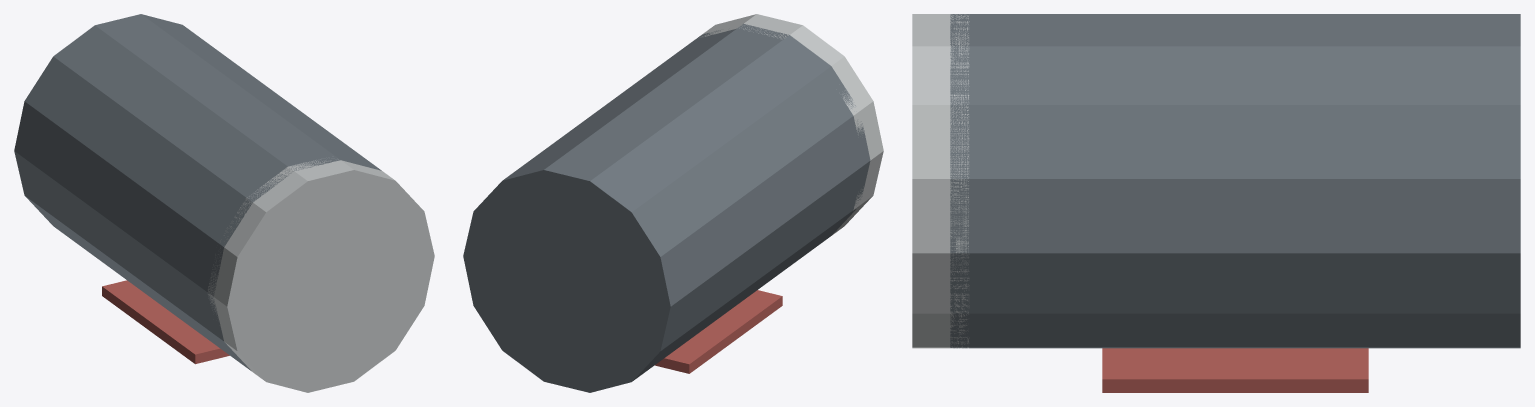
File: soda.glb
The picture shows the model from 3 angles, left to right: view 1: azimuth 30°, elevation 25°; view 2: azimuth 150°, elevation 25°; view 3: azimuth 270°, elevation 25°; orthographic projection. The views are drawn at different scales.
Parts seen in each view (by area): view 1: 00_soda_can, 01_can_top, 02_label; view 2: 00_soda_can, 01_can_top, 02_label; view 3: 00_soda_can, 01_can_top, 02_label.
Part boxes in pixels (left/top/right/bottom): 00_soda_can: left=14, top=14, right=381, bottom=370; 01_can_top: left=207, top=159, right=434, bottom=392; 02_label: left=102, top=280, right=229, bottom=364; 00_soda_can: left=463, top=23, right=870, bottom=392; 01_can_top: left=699, top=14, right=883, bottom=234; 02_label: left=655, top=290, right=782, bottom=373; 00_soda_can: left=950, top=14, right=1520, bottom=348; 01_can_top: left=912, top=14, right=969, bottom=348; 02_label: left=1102, top=348, right=1368, bottom=392.
Bounding box in the file's own units: 0.18 × 0.1872 × 0.32.
